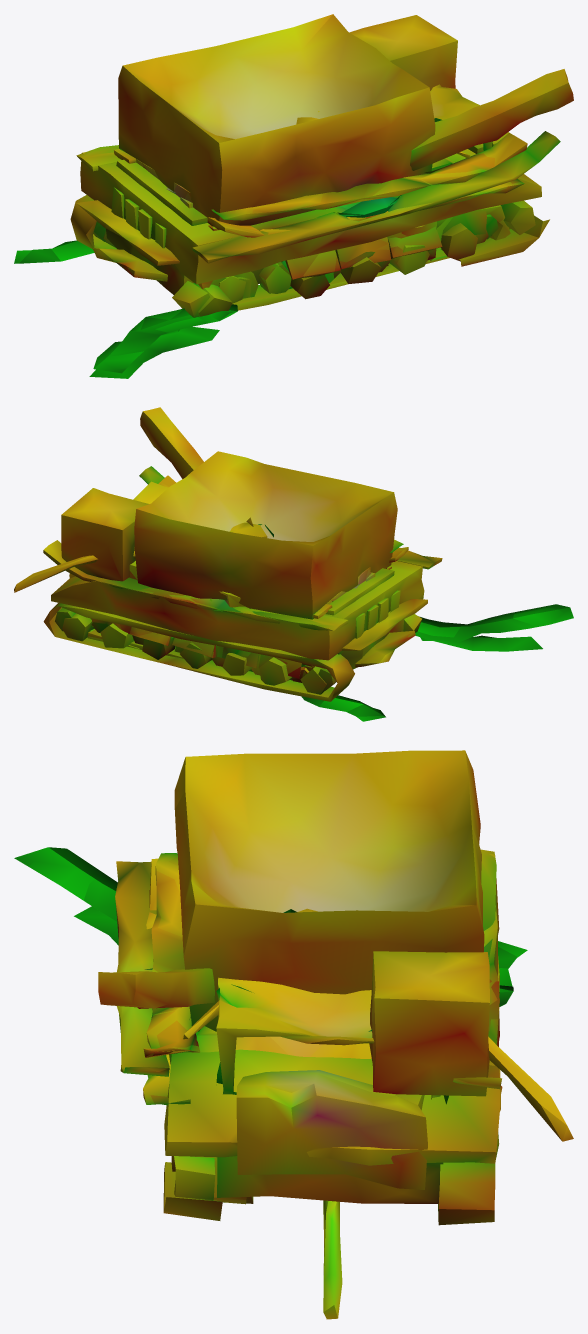
File: hulks.glb
The picture shows the model from 3 angles, top to bottom: view 1: azimuth 30°, elevation 25°; view 2: azimuth 150°, elevation 25°; view 3: azimuth 270°, elevation 25°; orthographic projection. The views are drawn at different scales.
Parts seen in each view (by area): view 1: harv, ifv_open, ifv, mbt, mbt_open, truck; view 2: harv, ifv, ifv_open, mbt, truck, mbt_open; view 3: harv, truck, ifv, ifv_open, mbt, mbt_turret, mbt_open.
Part boxes in pixels (x1,y1,x2,y2): harv: [70, 14, 573, 378]; ifv_open: [92, 150, 525, 371]; ifv: [95, 111, 527, 373]; mbt: [14, 181, 524, 304]; mbt_open: [19, 179, 523, 310]; truck: [76, 84, 509, 298]; harv: [43, 407, 542, 701]; ifv: [99, 475, 571, 675]; ifv_open: [90, 545, 573, 678]; mbt: [14, 547, 408, 721]; truck: [69, 481, 427, 680]; mbt_open: [87, 549, 407, 716]; harv: [74, 750, 501, 1225]; truck: [216, 977, 448, 1189]; ifv: [14, 853, 371, 1202]; ifv_open: [25, 847, 322, 1203]; mbt: [143, 858, 573, 1204]; mbt_turret: [323, 1200, 342, 1319]; mbt_open: [143, 861, 517, 1199].
Size of the model in its own units: 1.86 by 0.7552 by 1.19.
